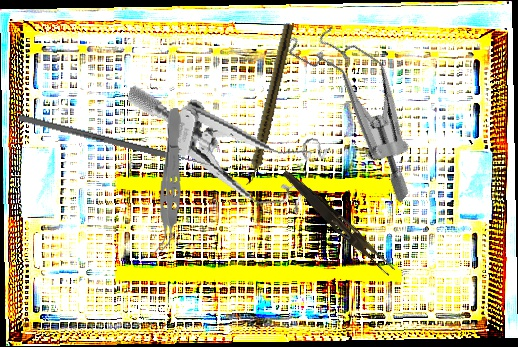Dressing Forceps: (277, 168, 399, 277)
Handpiece: (243, 22, 295, 188)
Pusher: (18, 114, 219, 171)
Speculum: (248, 10, 463, 204), (111, 84, 335, 219)
Tissue Forceps: (152, 106, 187, 256)
